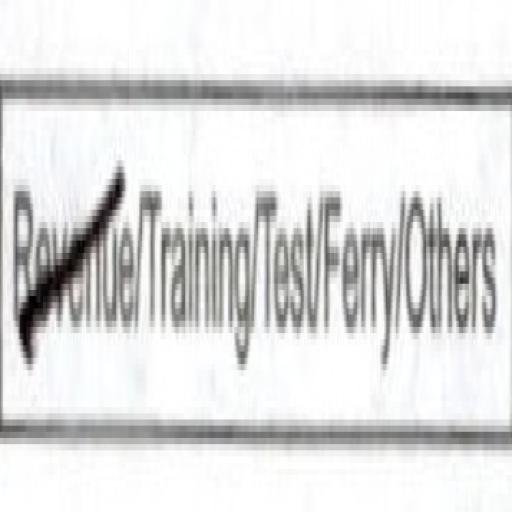check: (0, 0, 142, 469)
